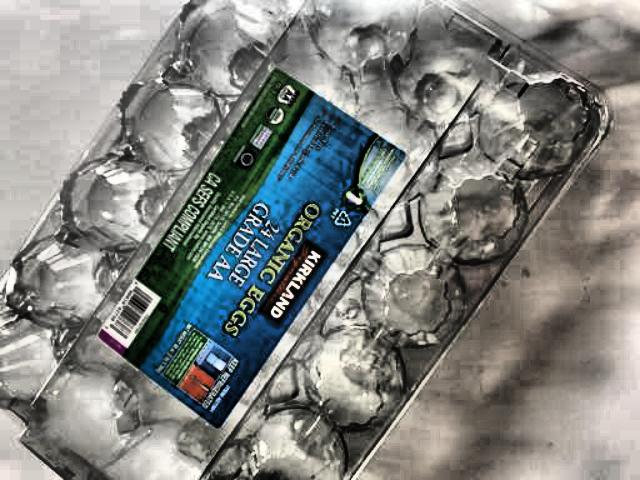Plastic: (0, 0, 613, 480)
